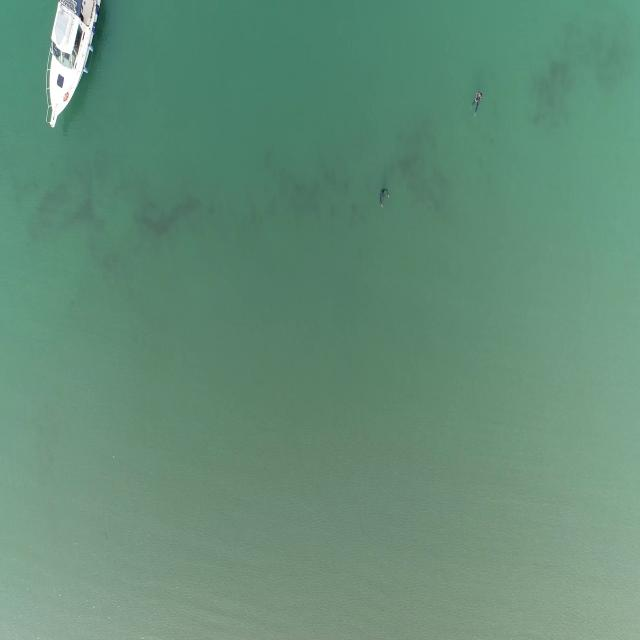boat: (40, 1, 100, 132)
person: (472, 93, 483, 122), (377, 189, 390, 212)
